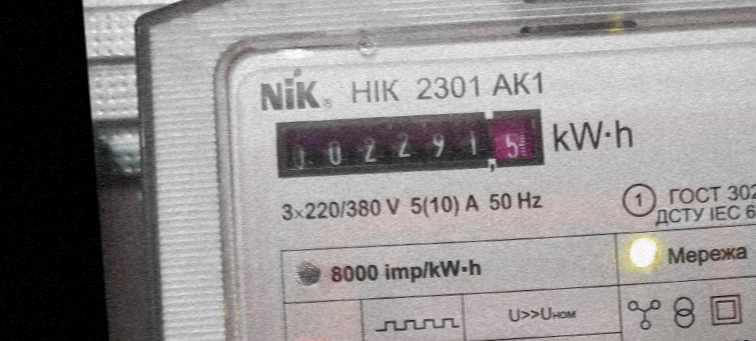0: (287, 138, 308, 169), (325, 136, 344, 166)
1: (464, 124, 480, 159)
2: (360, 133, 378, 163), (395, 128, 411, 158)
5: (502, 128, 521, 159)
9: (429, 127, 447, 159)
screen: (269, 94, 551, 192)
